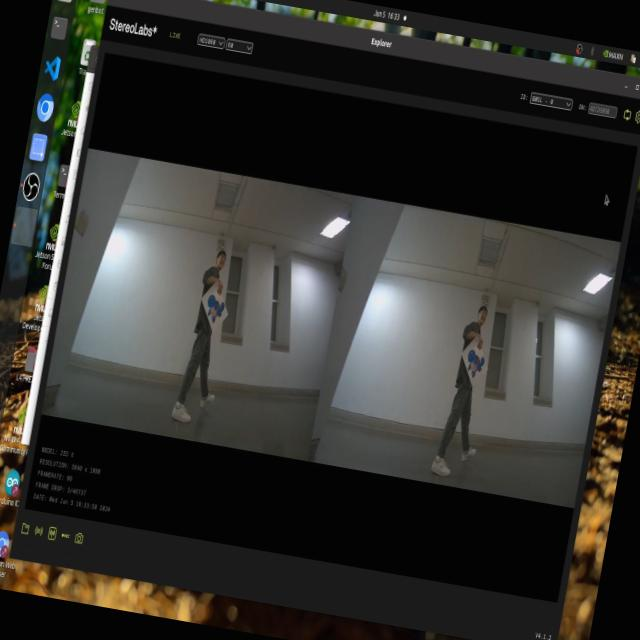blue: (194, 288, 231, 326), (458, 343, 489, 386)
